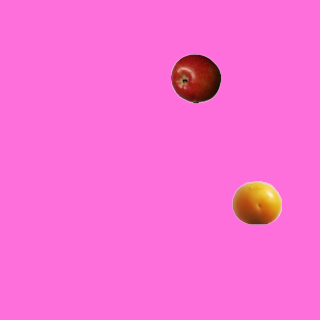Apple Braeburn: (170, 53, 220, 103)
Cherry Wax Yellow: (231, 177, 281, 227)
